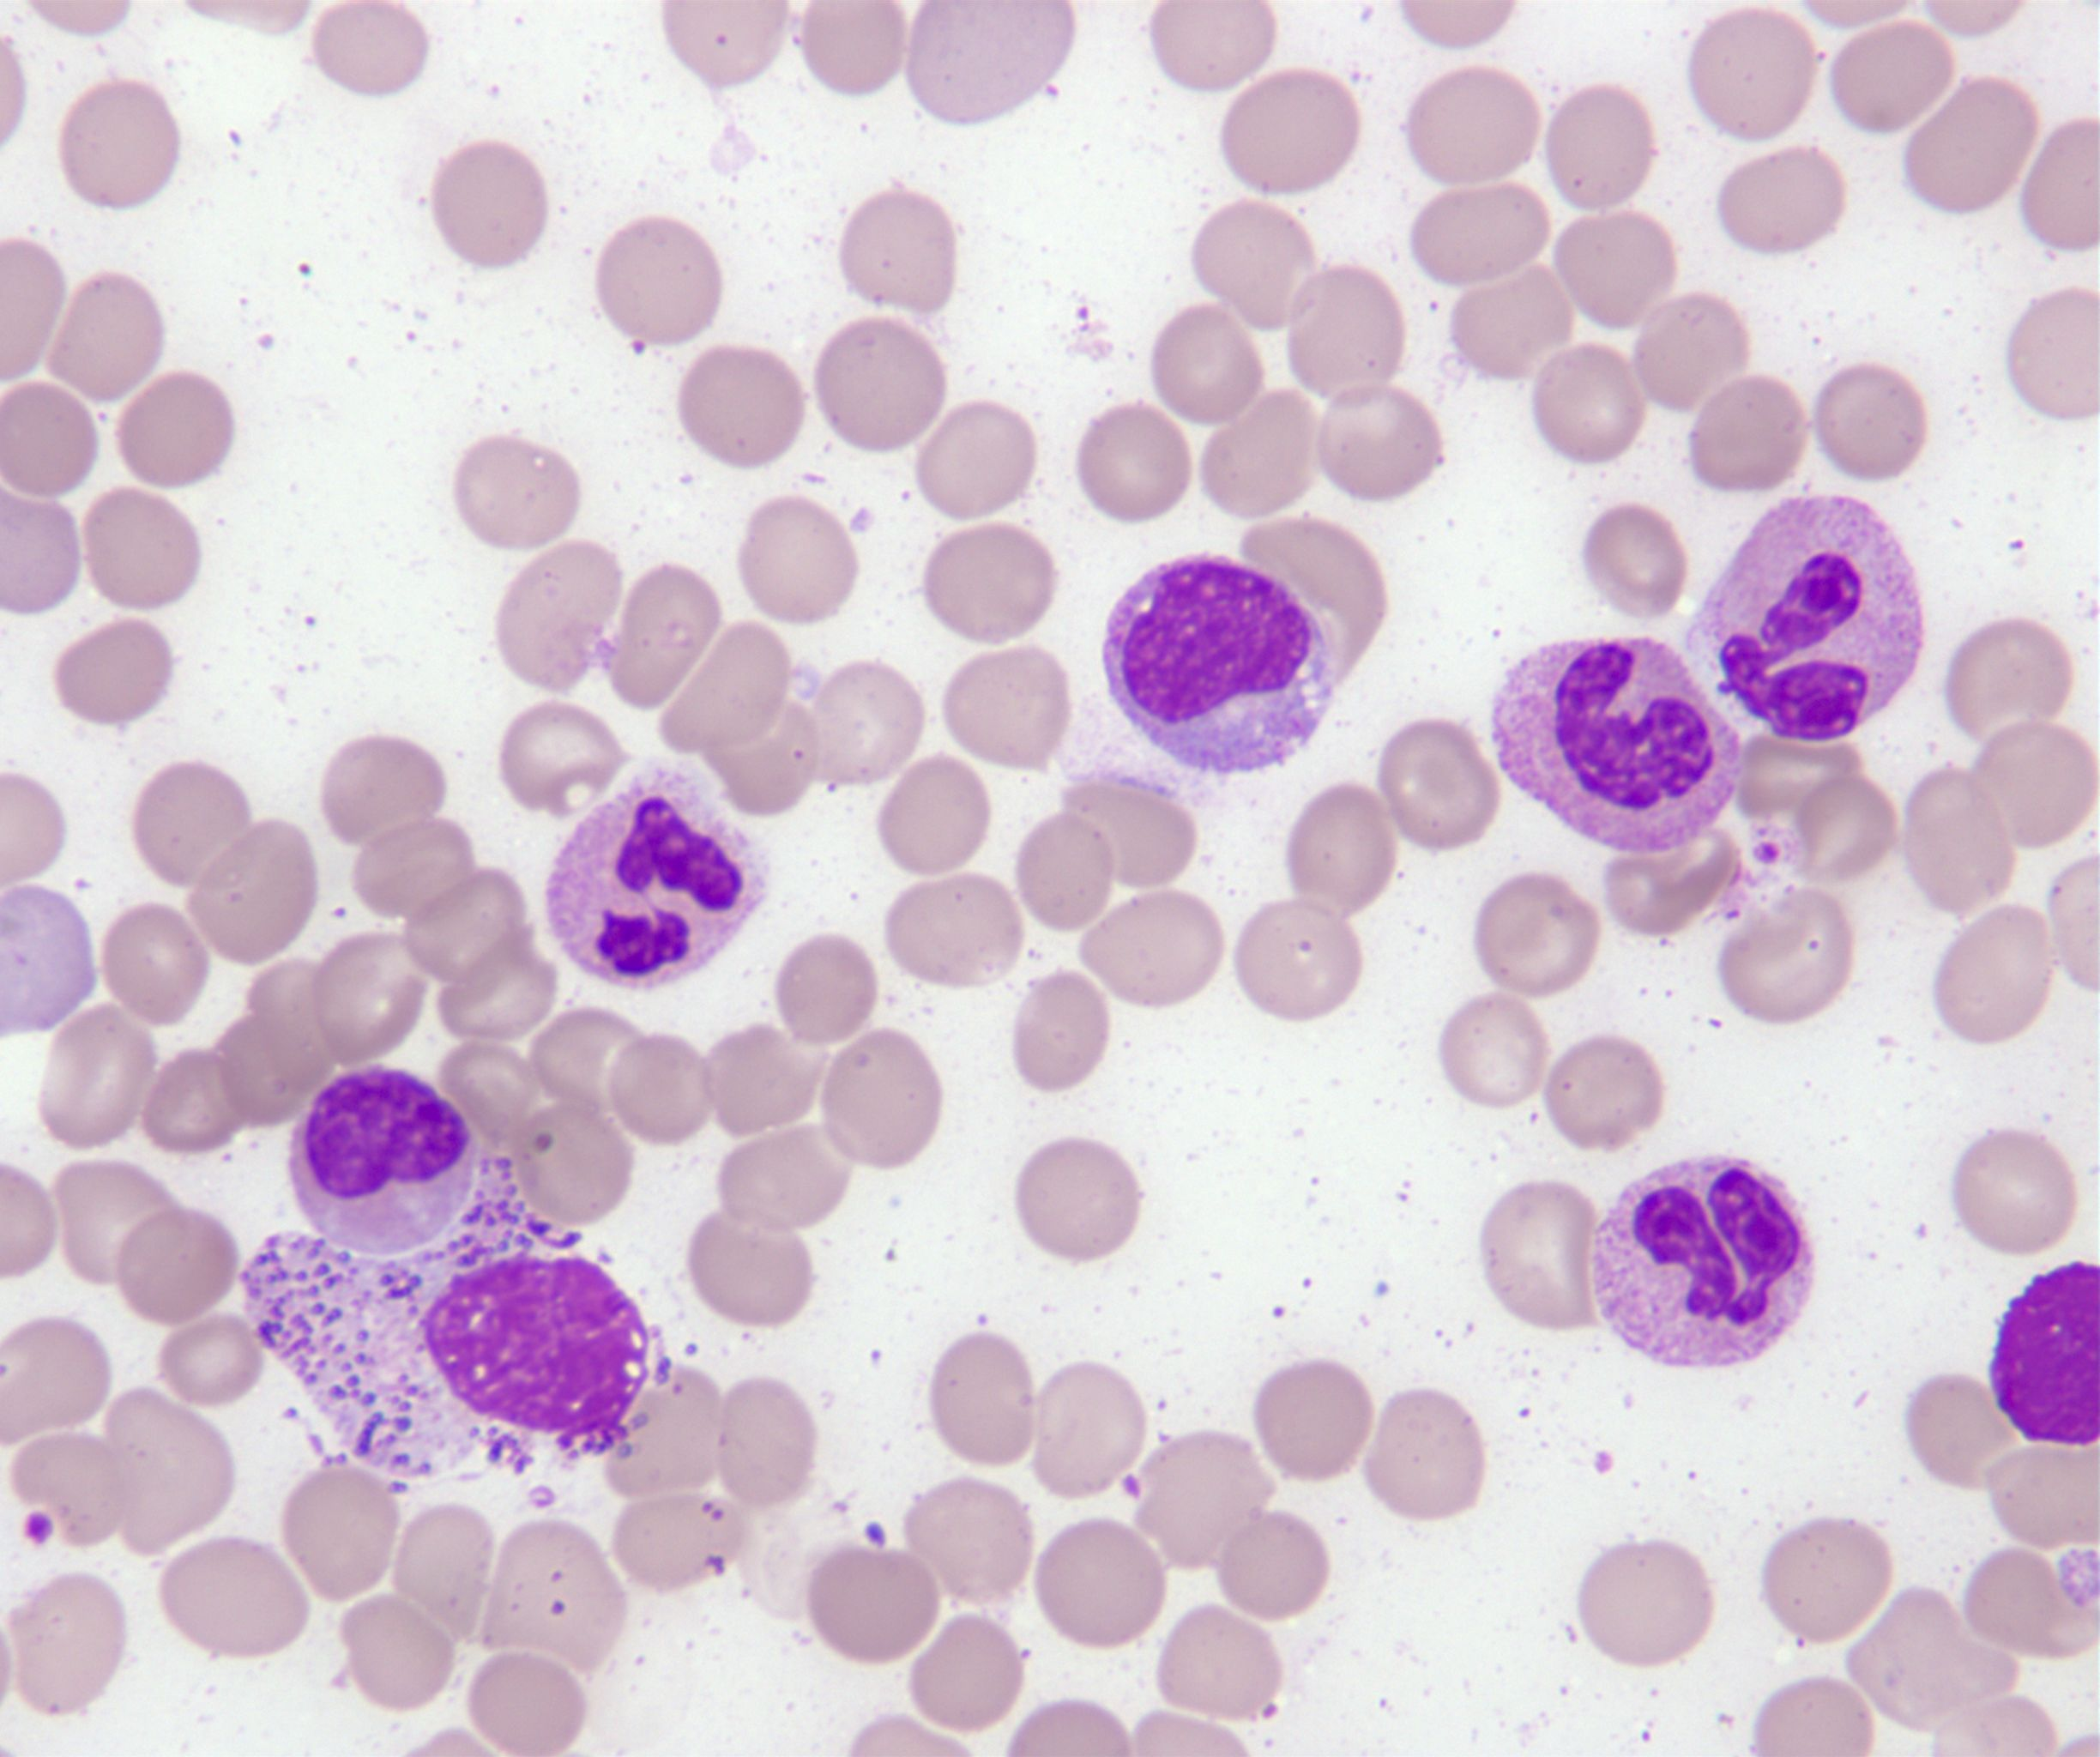4: (288, 1066, 473, 1255)
42: (1104, 553, 1333, 773)
5: (1681, 497, 1922, 742), (1493, 637, 1741, 853)
6: (544, 759, 764, 986), (1591, 1157, 1812, 1370)
x: (237, 1159, 649, 1473), (1990, 1263, 2100, 1443)
